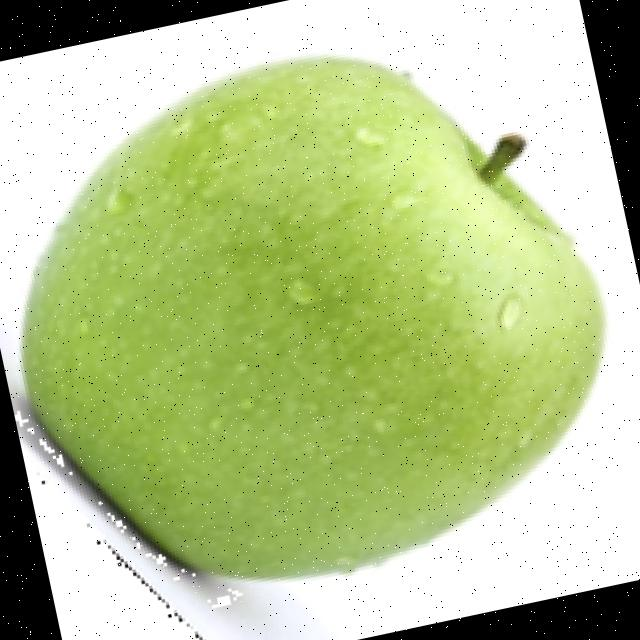apple: (5, 49, 612, 640)
